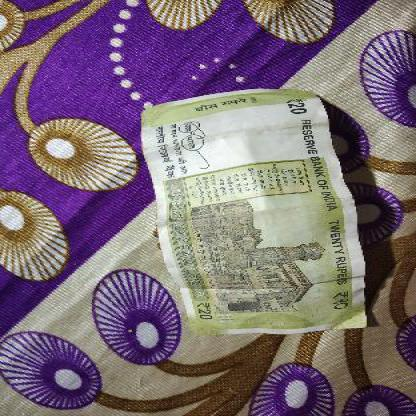New20Back: (139, 90, 362, 328)
